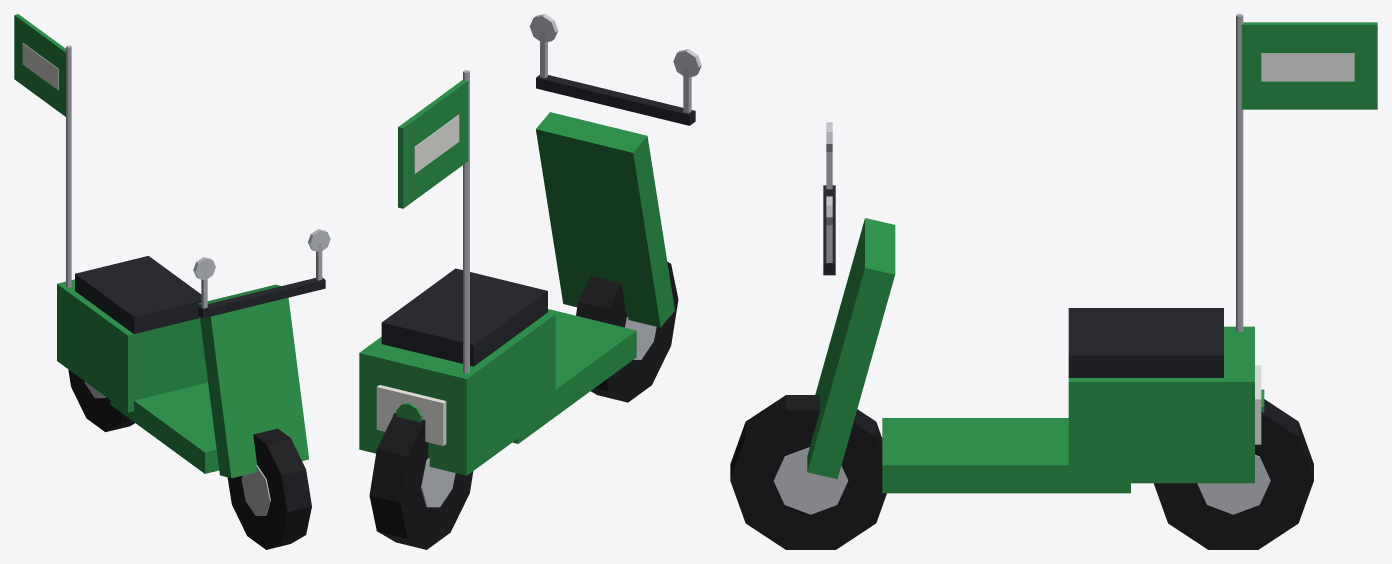
Rendered from barullo_scooter.glb.
3 renders of one model, left to right at view 1: azimuth 30°, elevation 25°; view 2: azimuth 150°, elevation 25°; view 3: azimuth 270°, elevation 25°, orthographic. The views are drawn at different scales.
Parts seen in each view (by area): view 1: body_barullo_green, body_barullo_seat, wheels_tire, flag_barullo_green, flag_stretcher_pole, wheels_rim, flag_goal_white, mirrors_rim, mirrors_stretcher_pole; view 2: body_barullo_green, wheels_tire, body_barullo_seat, flag_barullo_green, plate_goal_white, wheels_rim, flag_stretcher_pole, flag_goal_white, mirrors_rim, mirrors_stretcher_pole; view 3: body_barullo_green, wheels_tire, body_barullo_seat, flag_barullo_green, wheels_rim, flag_goal_white, flag_stretcher_pole.
Part boxes in pixels (x1,y1,x2,y2): body_barullo_green: [57, 279, 308, 478]; body_barullo_seat: [75, 256, 325, 333]; wheels_tire: [68, 369, 311, 549]; flag_barullo_green: [14, 14, 65, 116]; flag_stretcher_pole: [66, 45, 71, 287]; wheels_rim: [84, 381, 270, 515]; flag_goal_white: [22, 43, 58, 90]; mirrors_rim: [193, 229, 330, 279]; mirrors_stretcher_pole: [201, 243, 322, 308]; body_barullo_green: [359, 112, 674, 475]; wheels_tire: [369, 262, 678, 549]; body_barullo_seat: [381, 75, 695, 366]; flag_barullo_green: [398, 80, 468, 208]; plate_goal_white: [376, 385, 446, 445]; wheels_rim: [421, 317, 656, 507]; flag_stretcher_pole: [463, 70, 469, 373]; flag_goal_white: [414, 114, 459, 173]; mirrors_rim: [529, 14, 701, 77]; mirrors_stretcher_pole: [540, 32, 691, 113]; body_barullo_green: [807, 218, 1254, 493]; wheels_tire: [730, 395, 1313, 549]; body_barullo_seat: [823, 185, 1223, 377]; flag_barullo_green: [1241, 22, 1377, 109]; wheels_rim: [773, 447, 1270, 514]; flag_goal_white: [1261, 53, 1354, 81]; flag_stretcher_pole: [1236, 14, 1243, 331].
Bounding box in the file's own units: 0.66 × 1.79 × 2.08.
